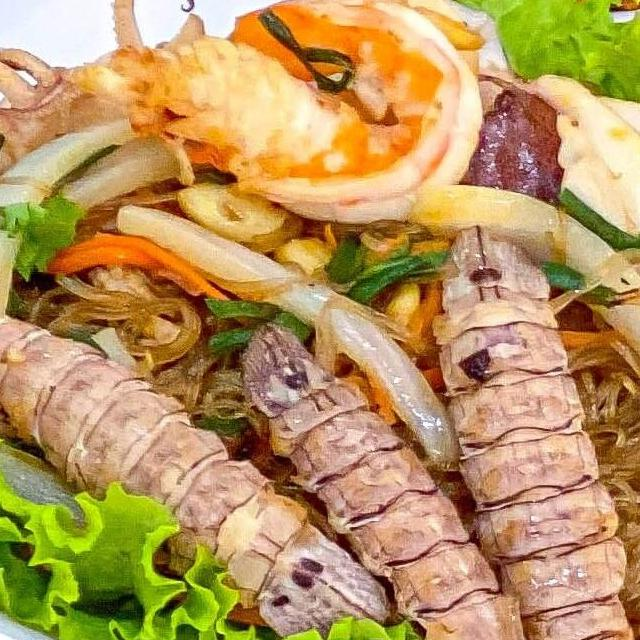muc: (451, 54, 640, 277), (0, 0, 202, 193)
tom: (36, 0, 495, 231)
tom tit: (0, 295, 407, 640), (224, 310, 575, 640), (425, 212, 640, 640)
